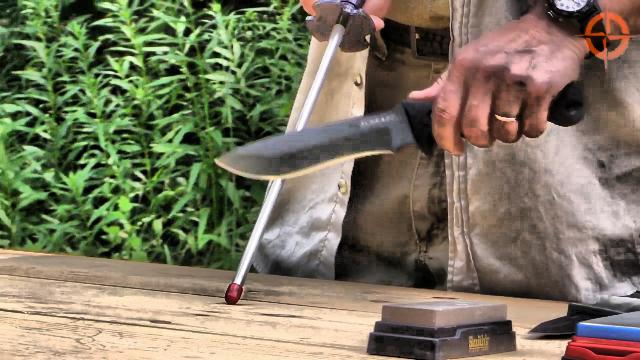knife: (200, 66, 590, 190)
